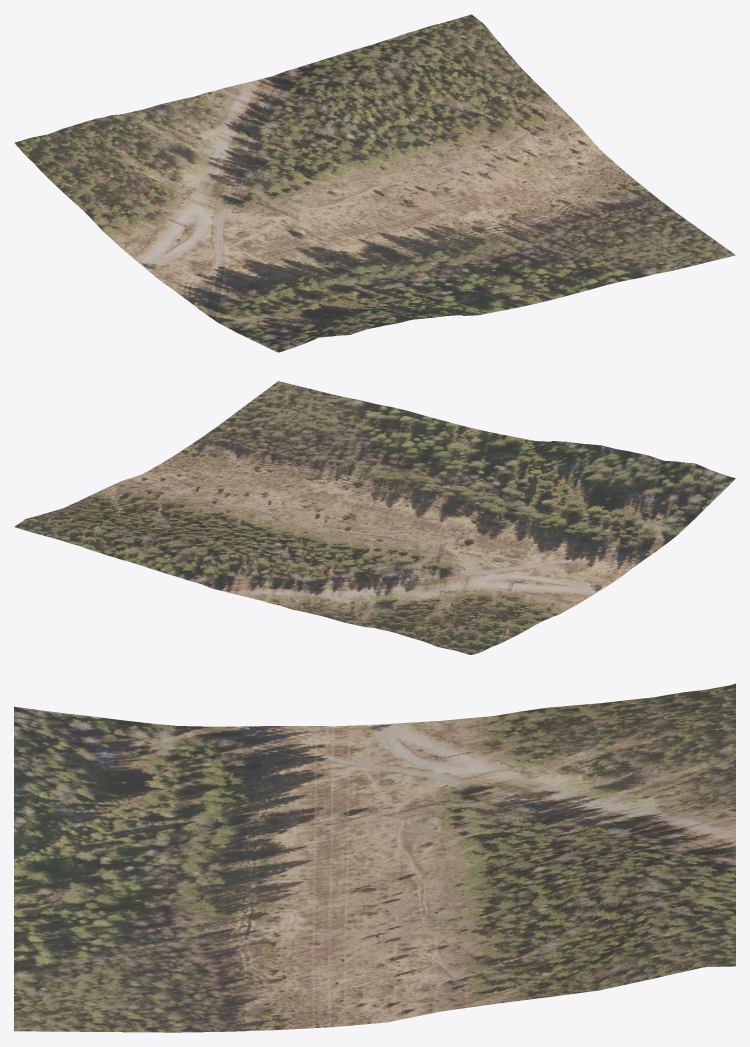
File: CM_Terrain_24490868_6816517.fbx
3 renders of one model, top to bottom at view 1: azimuth 30°, elevation 25°; view 2: azimuth 150°, elevation 25°; view 3: azimuth 270°, elevation 25°, orthographic. The views are drawn at different scales.
Parts seen in each view (by area): view 1: CM_Terrain_24490868_6816517_LOD0; view 2: CM_Terrain_24490868_6816517_LOD0; view 3: CM_Terrain_24490868_6816517_LOD0.
Boxes of the visible parts, x1,y1,x2,y2 form: CM_Terrain_24490868_6816517_LOD0: [14, 14, 735, 352]; CM_Terrain_24490868_6816517_LOD0: [14, 381, 735, 654]; CM_Terrain_24490868_6816517_LOD0: [14, 683, 735, 1032].
Size of what is drawn, in the model's own units: 205 by 20.71 by 205.
